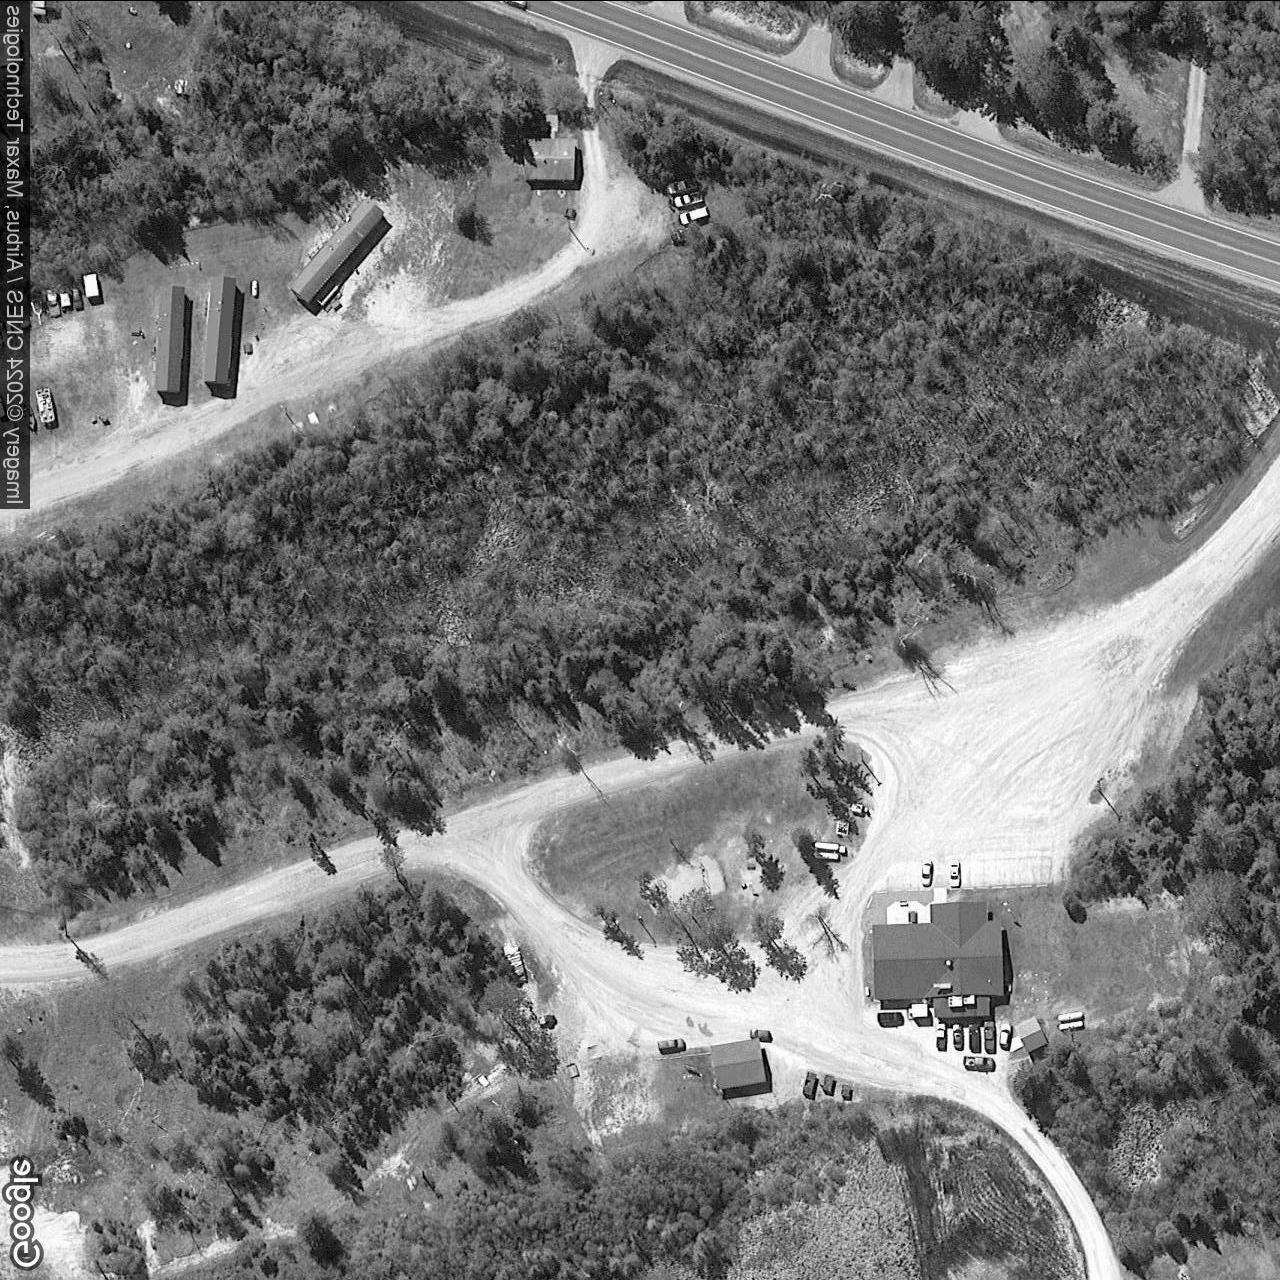Garage: (708, 1034, 768, 1091), (1015, 1014, 1049, 1053)
House: (871, 900, 1006, 1019), (524, 136, 576, 181), (30, 0, 59, 14)
Propane: (1057, 1019, 1085, 1032), (1057, 1010, 1085, 1021), (813, 839, 839, 850), (812, 850, 838, 860), (251, 279, 259, 298)
Trailer: (288, 196, 387, 305), (204, 274, 236, 384), (155, 286, 185, 393)
